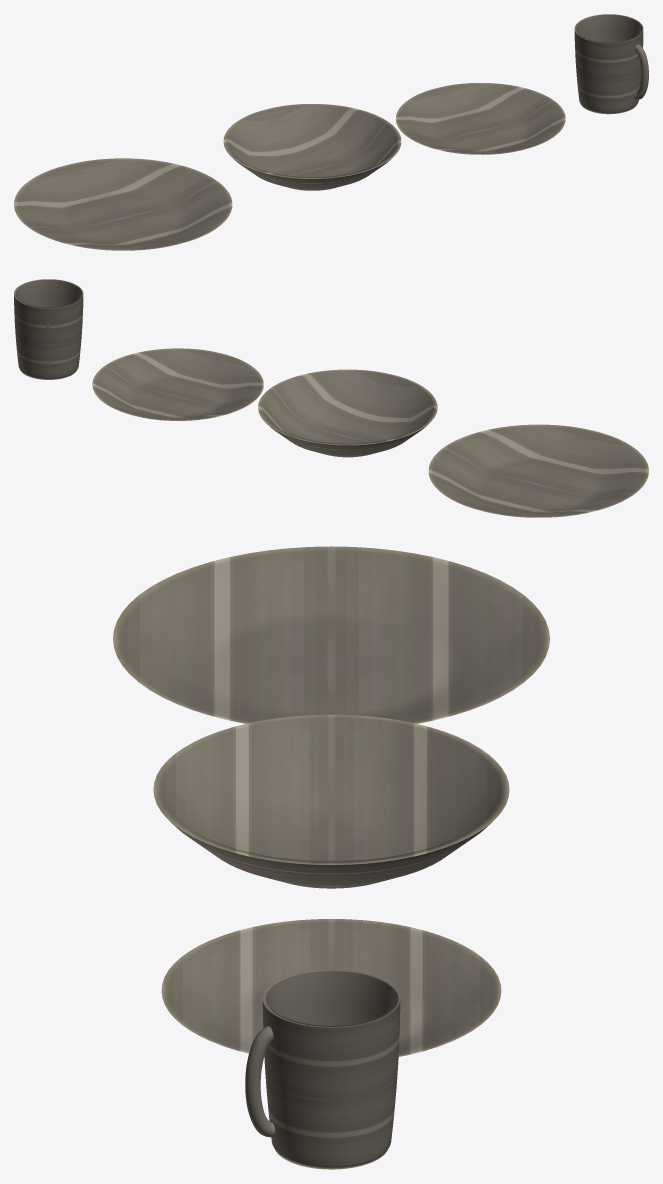
Rendered from BLC-07.glb.
The picture shows the model from 3 angles, top to bottom: view 1: azimuth 30°, elevation 25°; view 2: azimuth 150°, elevation 25°; view 3: azimuth 270°, elevation 25°; orthographic projection. The views are drawn at different scales.
Bounding box in the file's own units: 0.8705 × 0.1 × 0.27.
Materials: 9 (7 with a texture image).
